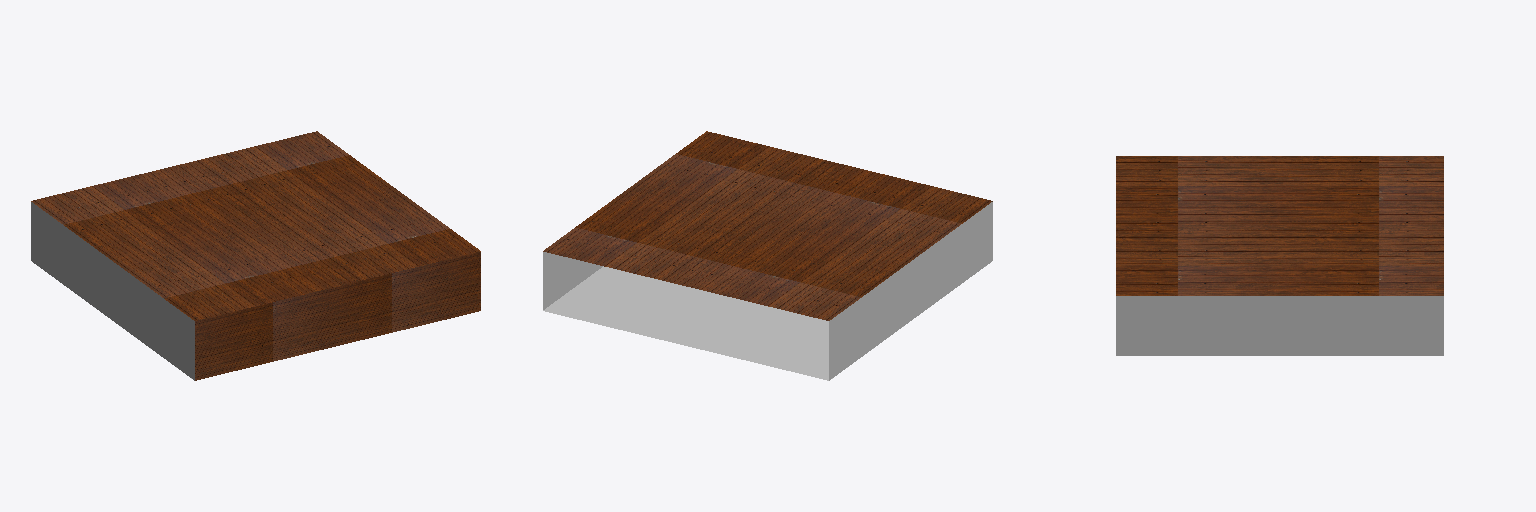
The picture shows the model from 3 angles: view 1: azimuth 30°, elevation 25°; view 2: azimuth 150°, elevation 25°; view 3: azimuth 270°, elevation 25°; orthographic projection.
Parts seen in each view (by area): view 1: Cube.009; view 2: Cube.009; view 3: Cube.009.
Boxes of the visible parts, x1,y1,x2,y2 form: Cube.009: [31, 131, 480, 380]; Cube.009: [543, 131, 992, 380]; Cube.009: [1116, 156, 1443, 355].
Size of the model in its own units: 358 by 71.15 by 355.
Materials: 2 (1 with a texture image).